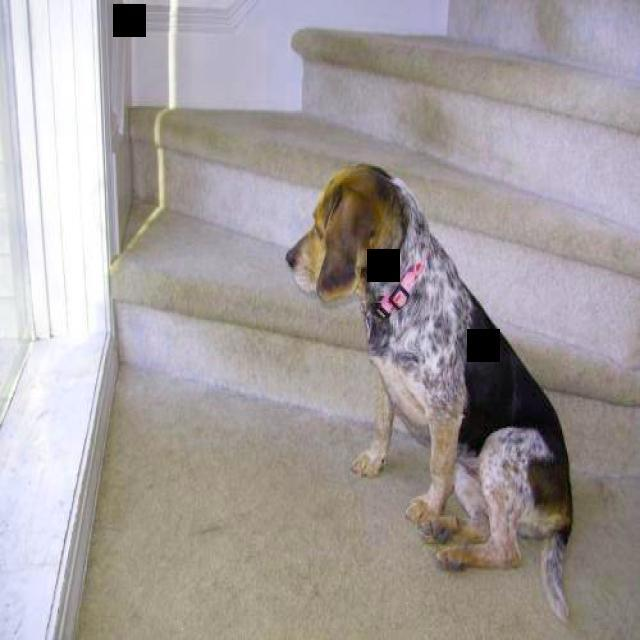adult_dog: (283, 164, 577, 620)
